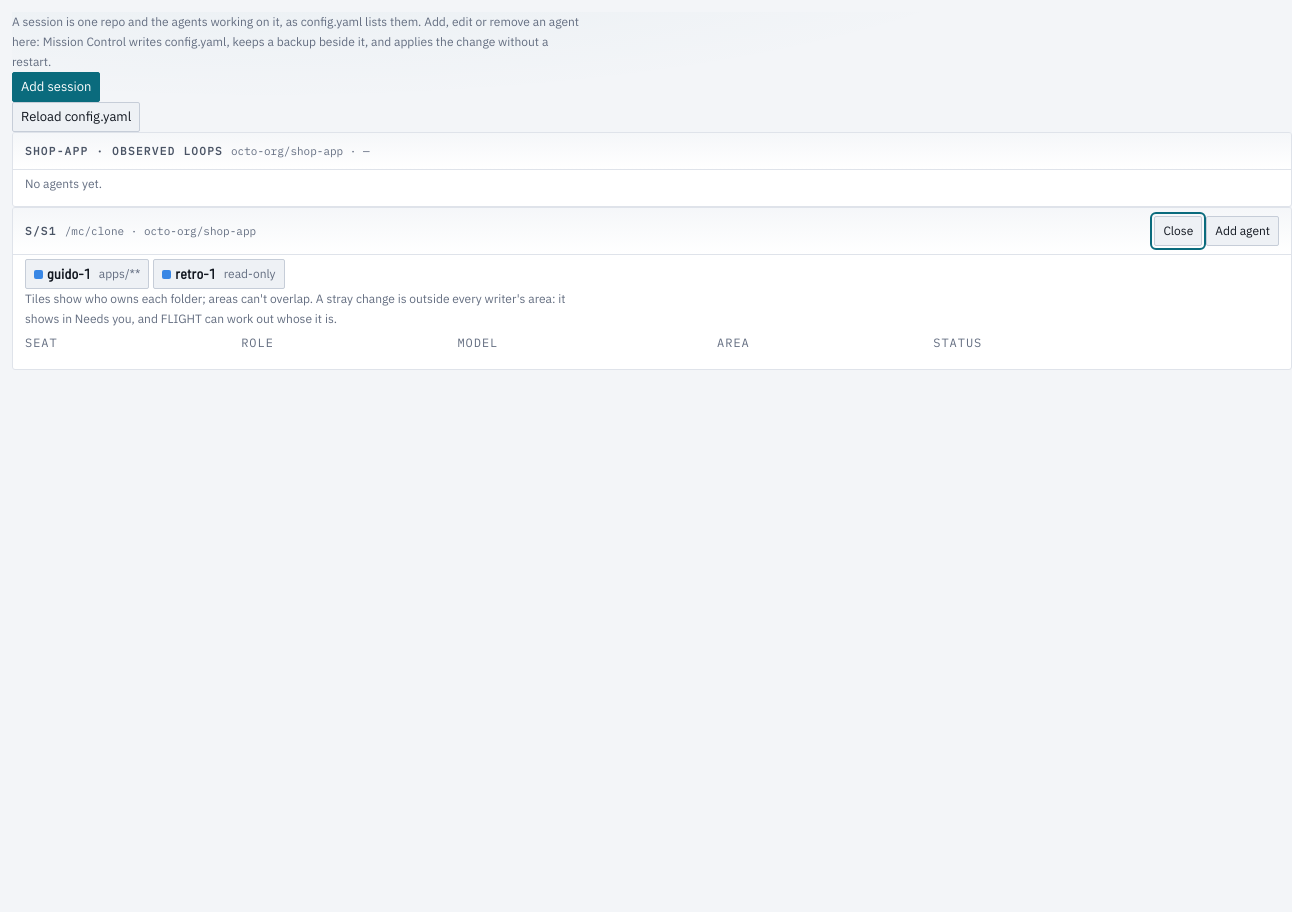
Test case: reports removed and resets the closed selection
Step 1. Click the button "Close" → point(1178, 231), box [1154,216,1202,246]
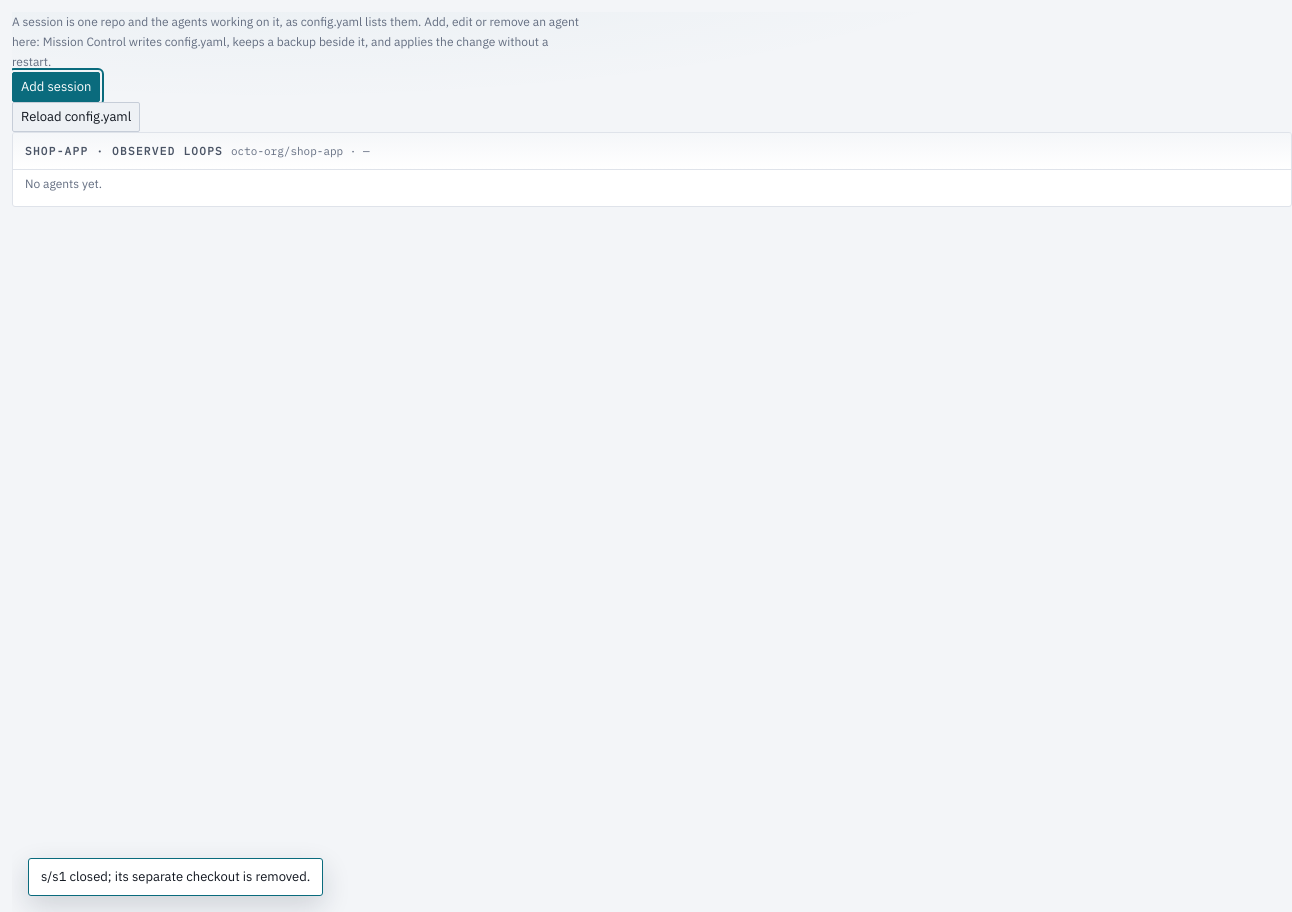
Expected: the text "s/s1 closed; its separate checkout is removed." is shown, [28,858,323,896]
